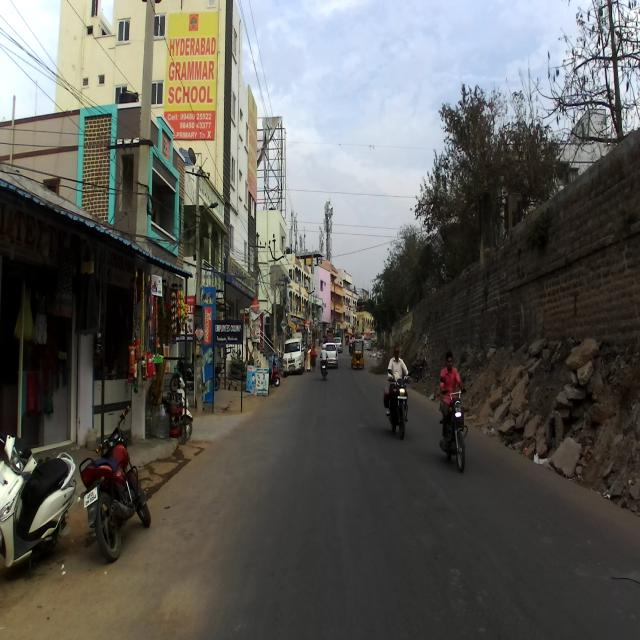motorcycle ahead at: (0, 423, 80, 590), (82, 412, 154, 561), (434, 375, 475, 470), (381, 371, 412, 440)
